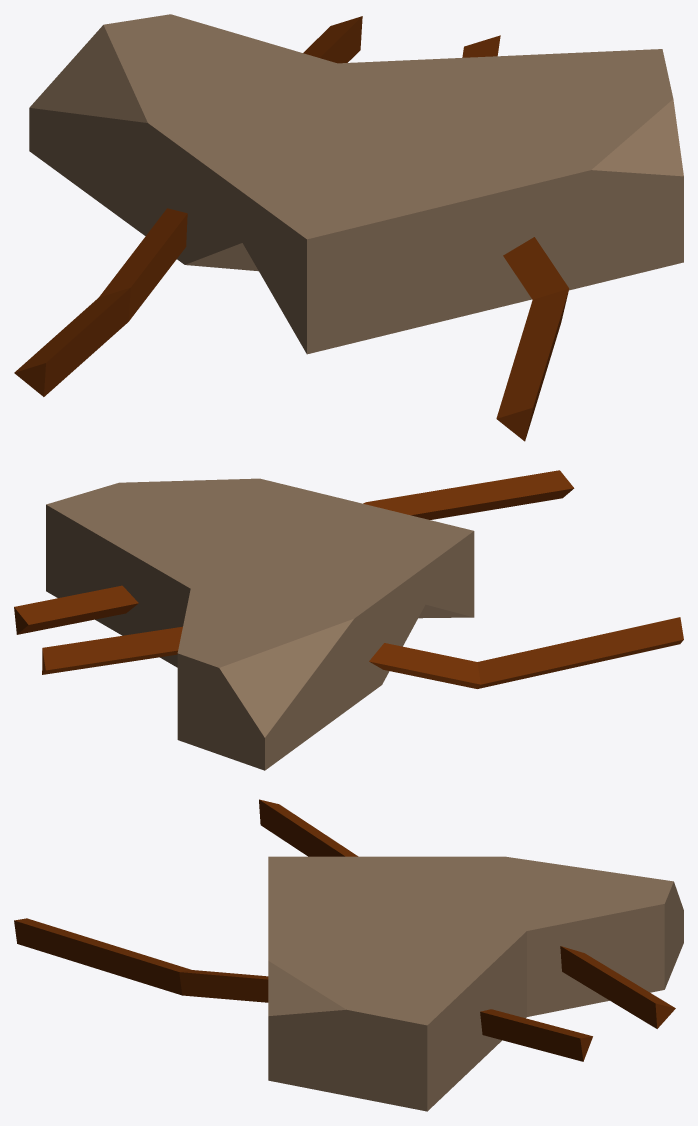
File: LP_PostApoc_Rubble1.fbx
3 views of the same model, one above another, from view 1: azimuth 30°, elevation 25°; view 2: azimuth 150°, elevation 25°; view 3: azimuth 270°, elevation 25° (orthographic). The views are drawn at different scales.
Parts seen in each view (by area): view 1: Rubble1; view 2: Rubble1; view 3: Rubble1.
Boxes of the visible parts, x1,y1,x2,y2 form: Rubble1: [14, 14, 683, 441]; Rubble1: [14, 470, 683, 770]; Rubble1: [14, 799, 683, 1111].
Bounding box in the file's own units: 120 × 19.06 × 125.
